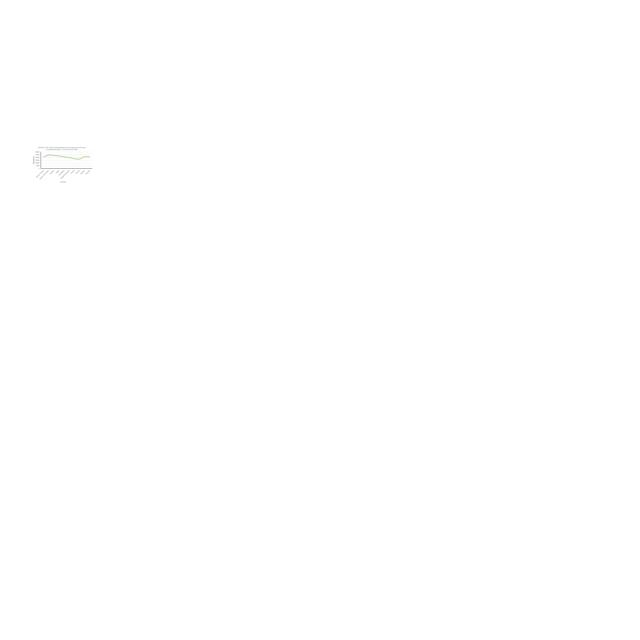Graph: (31, 146, 93, 183)
